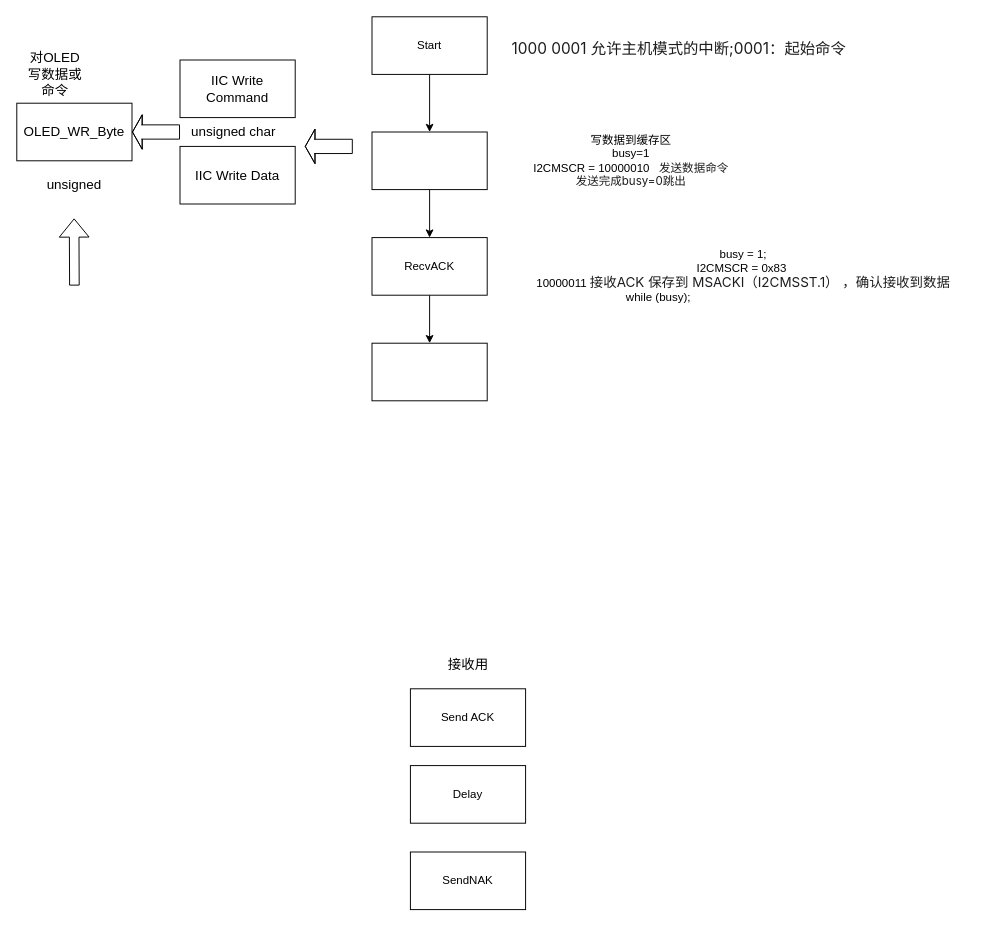
This 1000x926 diagram has some shape labels left out. Each missing label, with the centre of its shape:
Send data unsigned char: [429,160]
Stop: [429,371]
